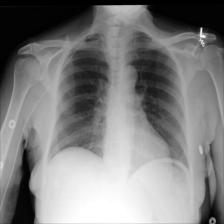normal: (47, 26, 194, 174)
